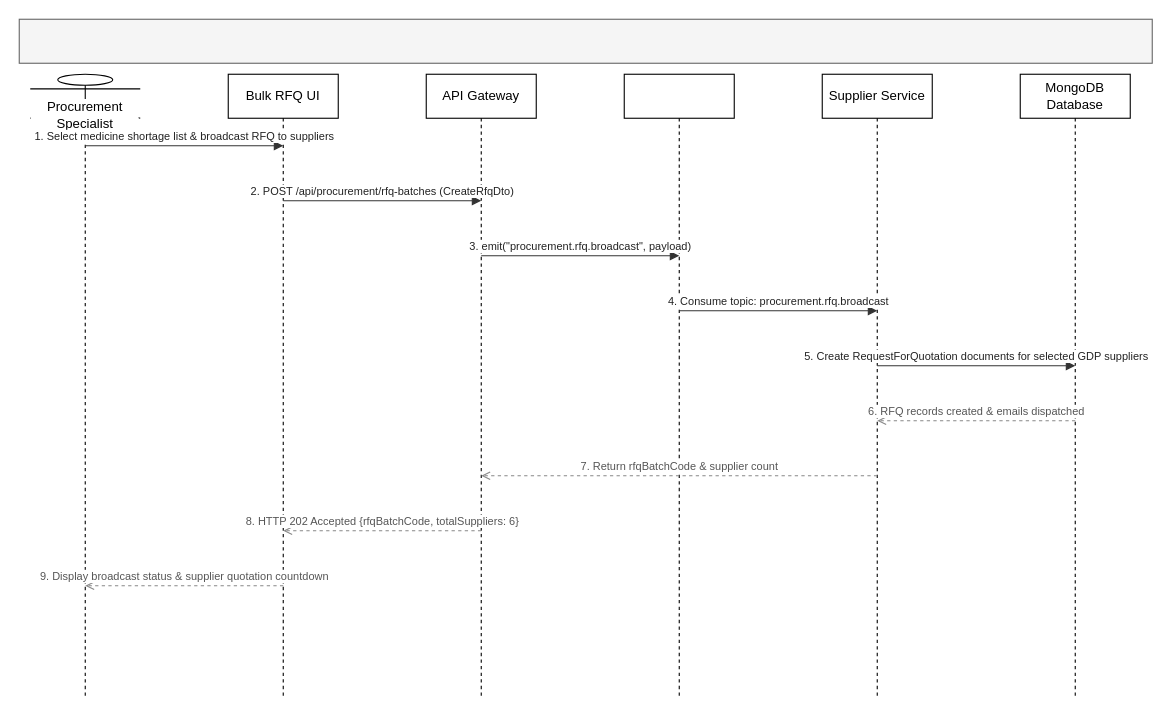
This 1172x715 diagram has some shape labels left out. Here are the shapes that lost their labels. From the top down, the box of each, then its label:
(18, 18, 1152, 63): Sequence Diagram - UC-79: Multi-Supplier Bulk RFQ Quotation
(623, 73, 734, 696): Kafka Broker
